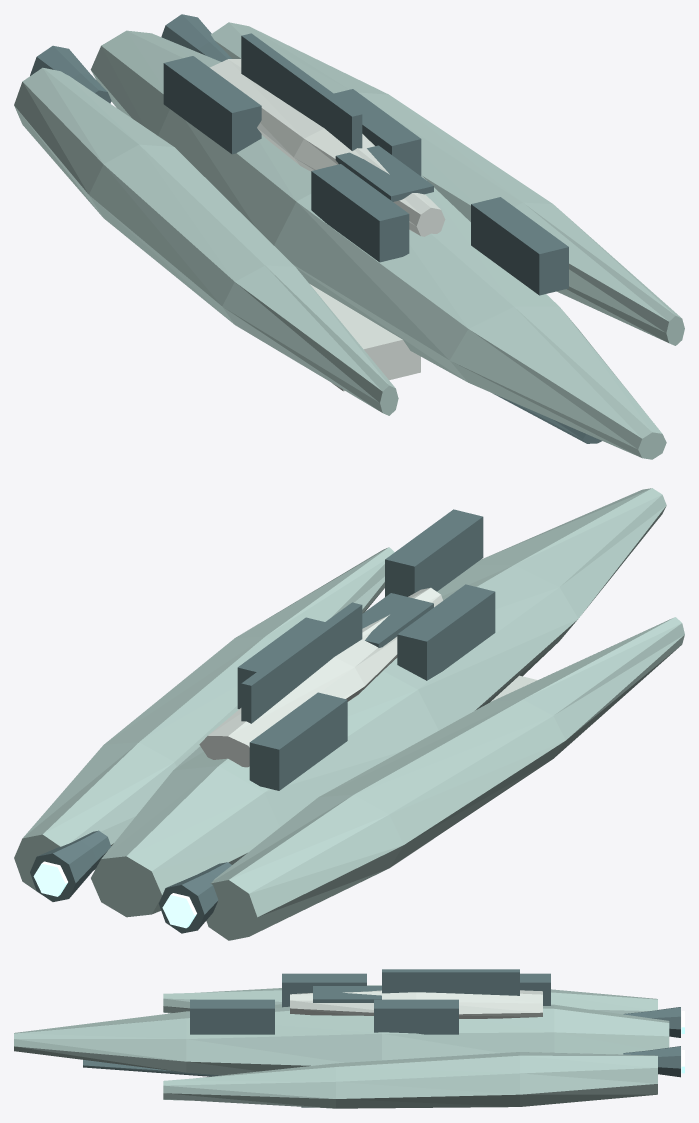
3 renders of one model, top to bottom at view 1: azimuth 30°, elevation 25°; view 2: azimuth 150°, elevation 25°; view 3: azimuth 270°, elevation 25°, orthographic. The views are drawn at different scales.
Size of the model in its own units: 6.96 by 3.39 by 18.89.
